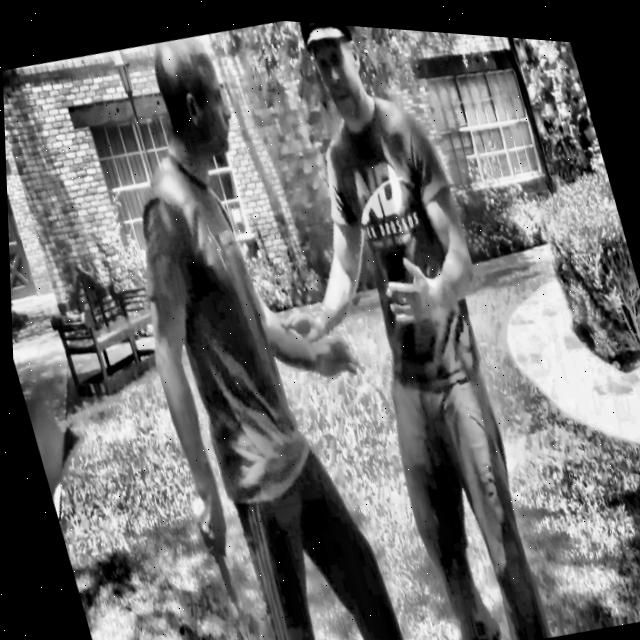robbery: (44, 3, 586, 640)
